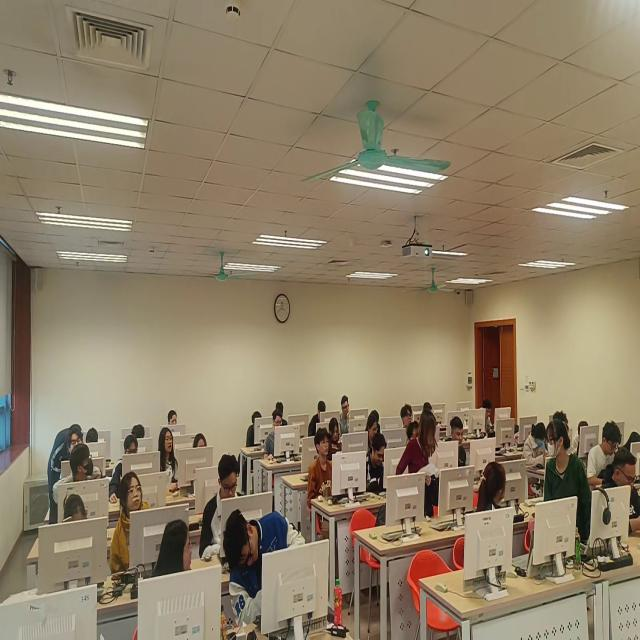raise_head: (111, 471, 152, 576), (308, 429, 333, 501), (159, 428, 180, 496), (402, 404, 414, 430), (408, 421, 420, 442), (194, 433, 209, 449), (169, 410, 178, 426)
stand: (397, 410, 438, 520), (49, 426, 82, 521)
using_computer: (200, 454, 243, 564), (601, 446, 640, 539), (588, 422, 624, 488), (110, 436, 139, 507), (523, 423, 548, 469), (367, 434, 388, 486), (446, 417, 467, 469), (265, 410, 284, 463), (64, 494, 87, 523), (310, 402, 327, 439), (247, 412, 263, 450), (573, 421, 589, 455), (365, 416, 379, 453), (330, 417, 343, 456), (624, 431, 640, 458), (341, 396, 352, 434), (274, 403, 289, 427), (87, 427, 100, 447), (371, 410, 381, 434), (133, 426, 147, 441), (554, 412, 570, 424), (425, 403, 434, 413)
using_phone: (482, 401, 496, 435)
